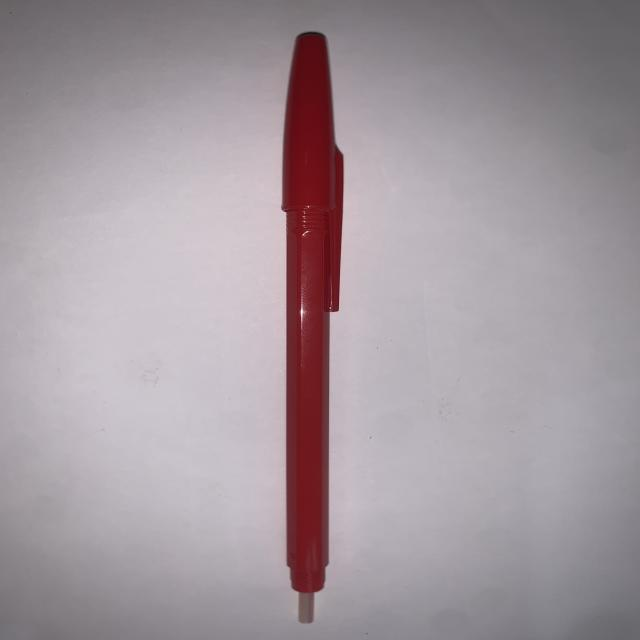Pulpen: (246, 10, 373, 635)
